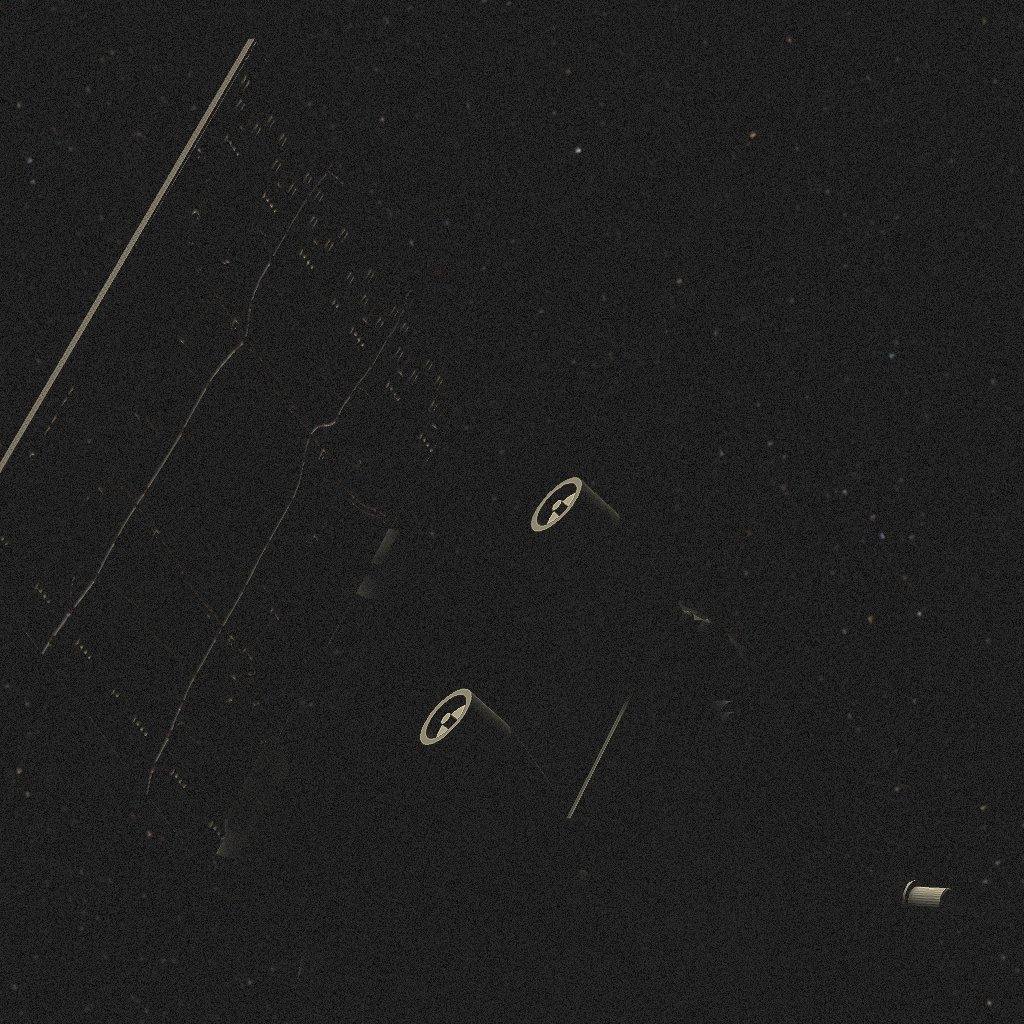proba_3_csc: (0, 39, 956, 1024)
